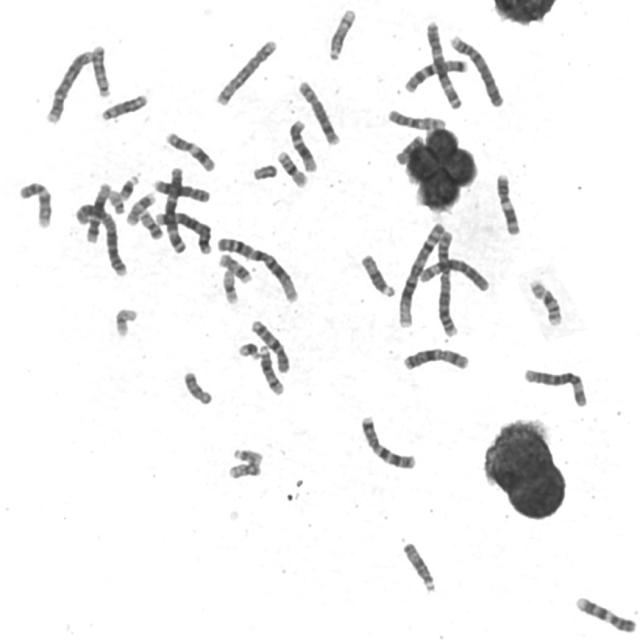A1: (215, 234, 301, 305), (394, 220, 446, 329)
A2: (73, 201, 128, 278), (434, 228, 460, 339)
A3: (423, 19, 463, 110), (163, 163, 187, 255)
B4: (447, 32, 506, 108), (43, 48, 95, 126)
B5: (212, 36, 278, 107), (153, 209, 213, 256)
C10: (248, 317, 291, 375), (385, 106, 448, 131)
C11: (163, 130, 217, 174), (493, 170, 522, 237)
C12: (286, 116, 319, 174), (84, 180, 112, 244)
C6: (521, 365, 590, 409), (415, 255, 491, 294)
C7: (358, 412, 418, 471), (402, 56, 470, 94)
C8: (295, 77, 341, 146), (150, 176, 211, 204)
C9: (572, 593, 637, 634), (15, 178, 54, 230)
D13: (98, 91, 149, 122), (89, 41, 112, 99)
D14: (325, 5, 358, 62), (256, 341, 286, 396)
D15: (400, 539, 438, 594), (358, 251, 397, 299)
E16: (526, 276, 564, 328), (274, 148, 309, 189)
E17: (216, 251, 253, 285), (124, 190, 156, 227)
E18: (180, 368, 214, 406), (393, 133, 424, 167)
F19: (112, 304, 139, 338), (220, 266, 240, 306)
F20: (136, 208, 164, 241), (226, 460, 263, 480)
G21: (115, 172, 141, 202), (235, 340, 261, 360)
G22: (230, 446, 264, 466), (106, 188, 126, 215)
X: (400, 346, 470, 372)
Y: (250, 161, 278, 181)
